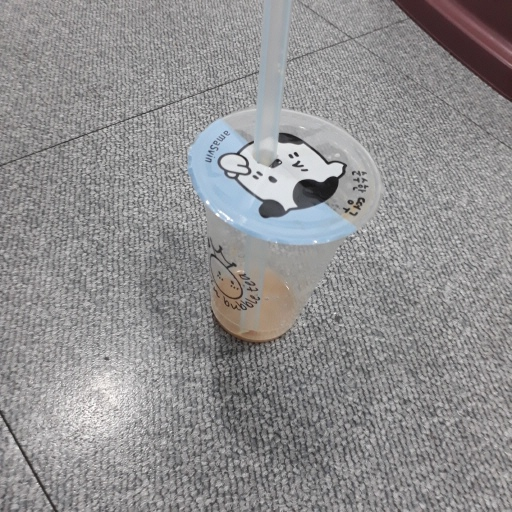Plastic_2: (191, 7, 380, 349)
